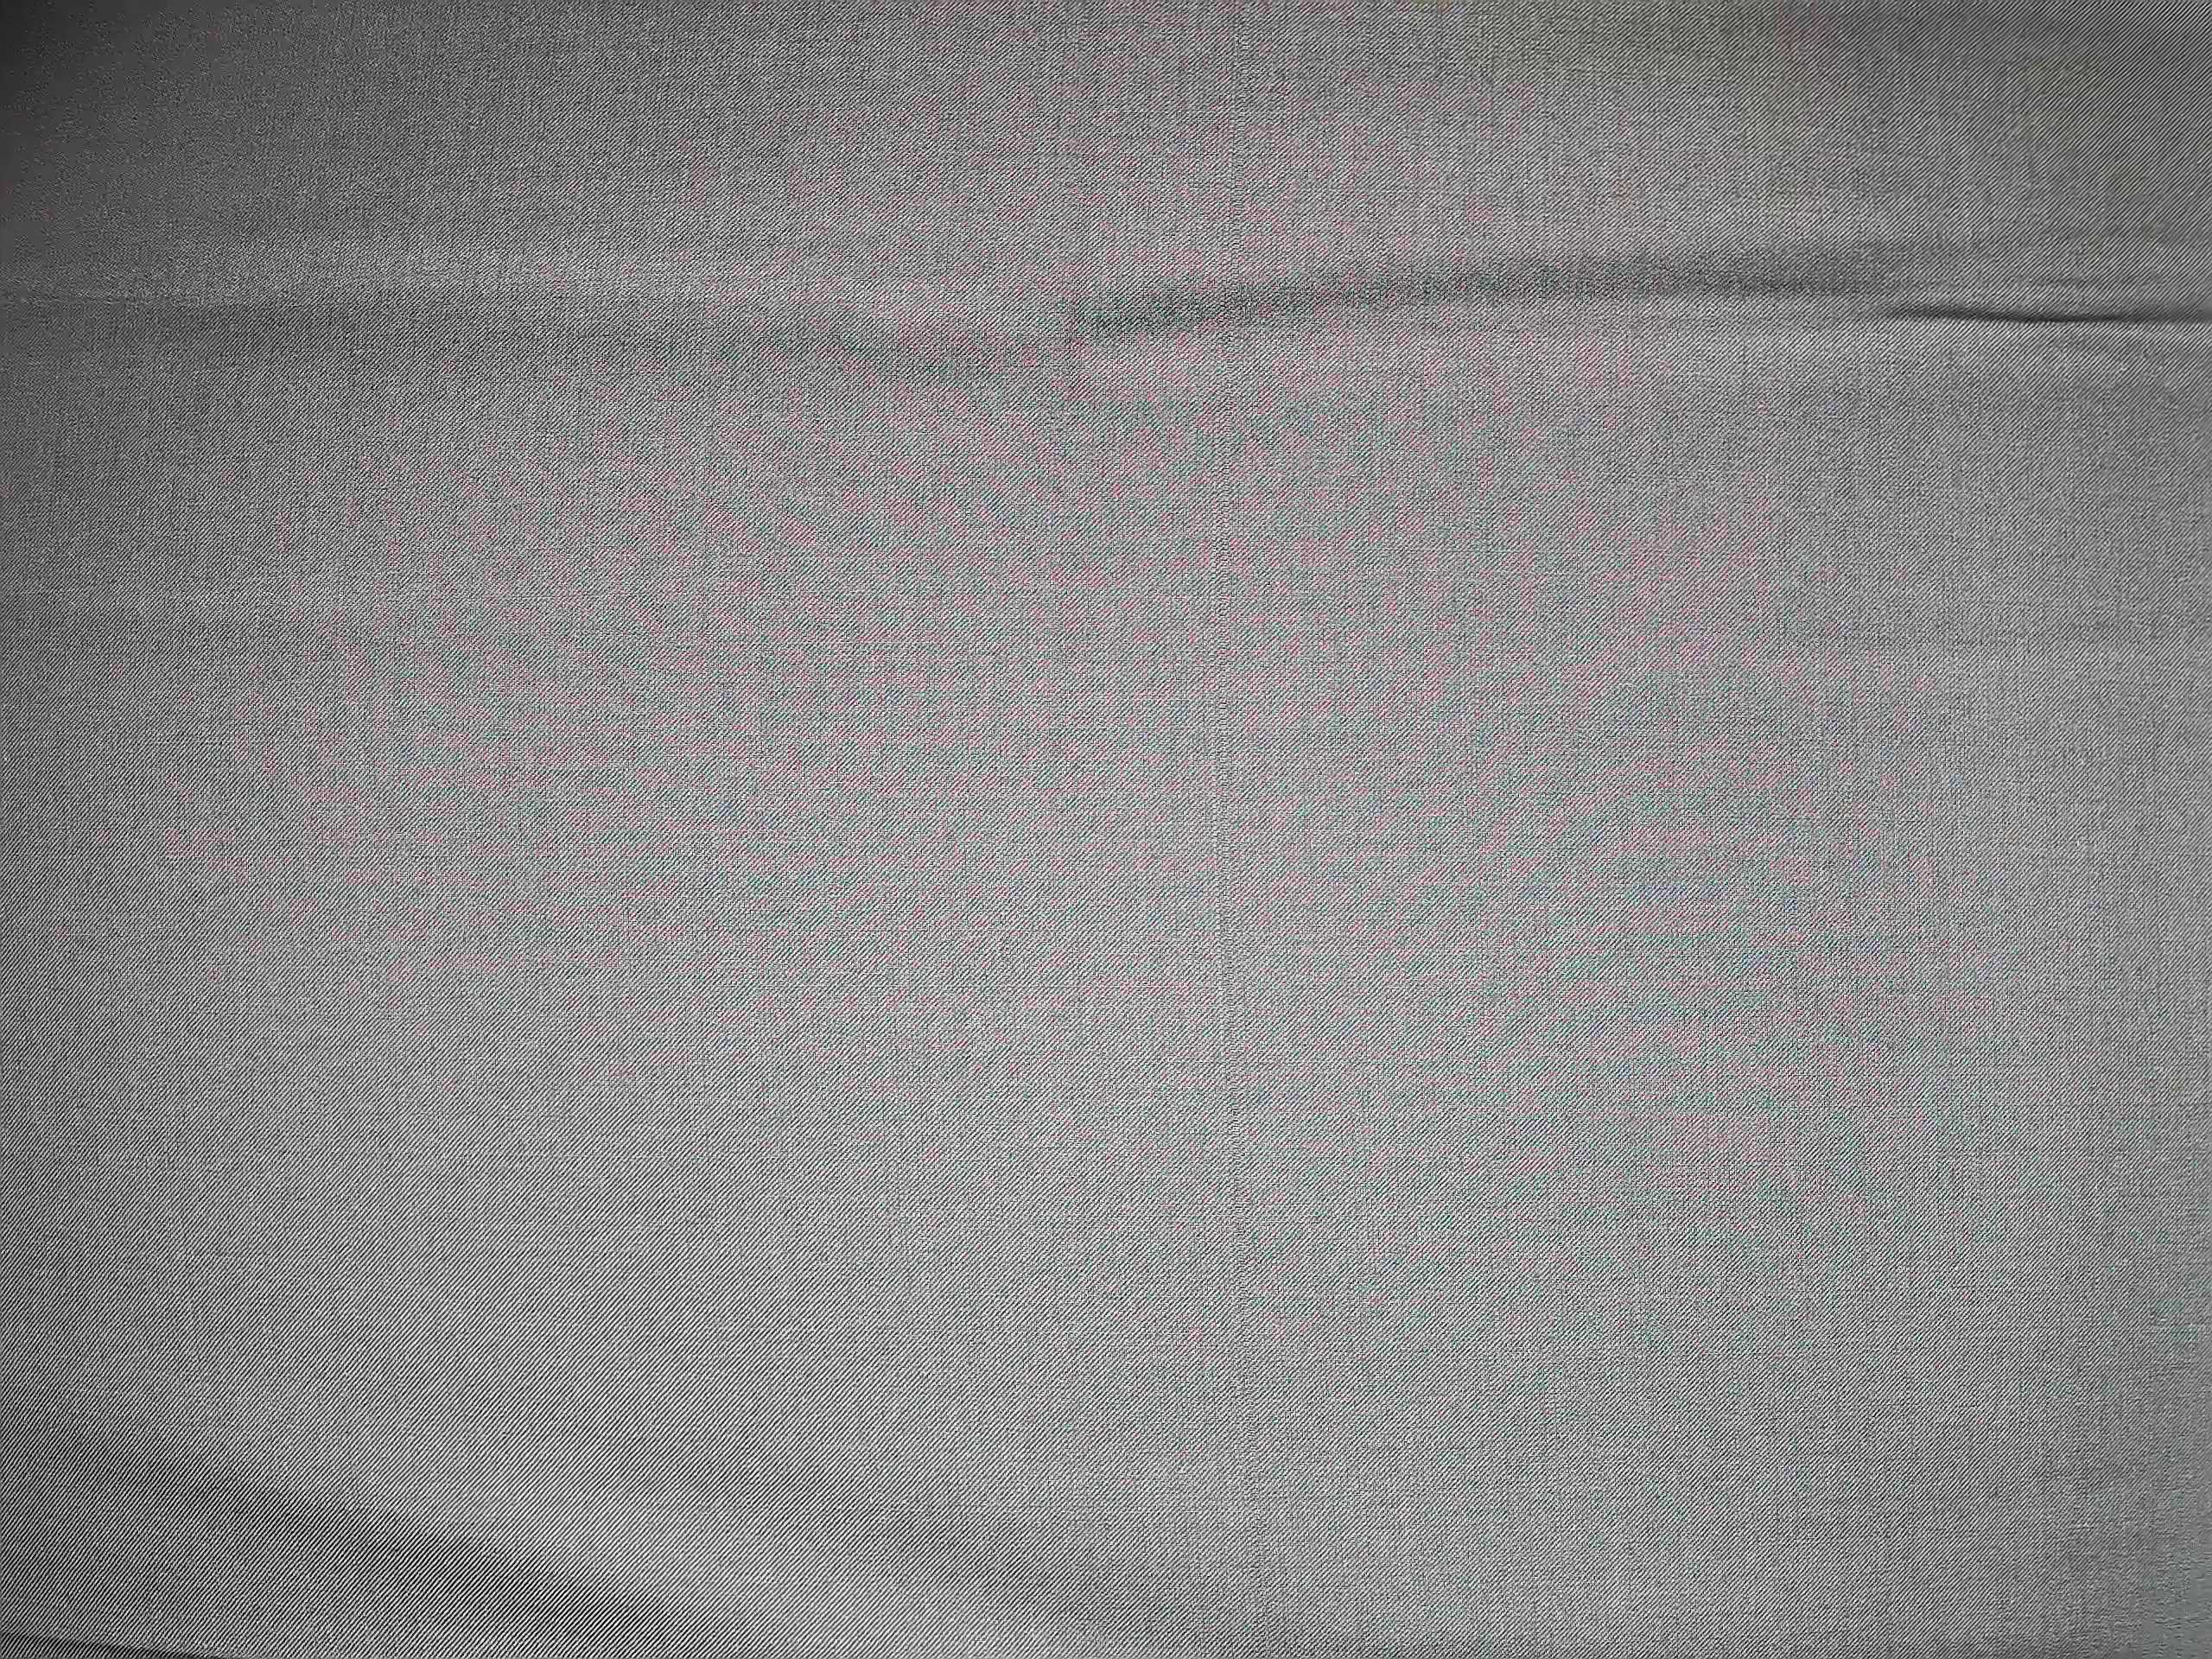dropped_pick: (1197, 488, 1252, 1344)
